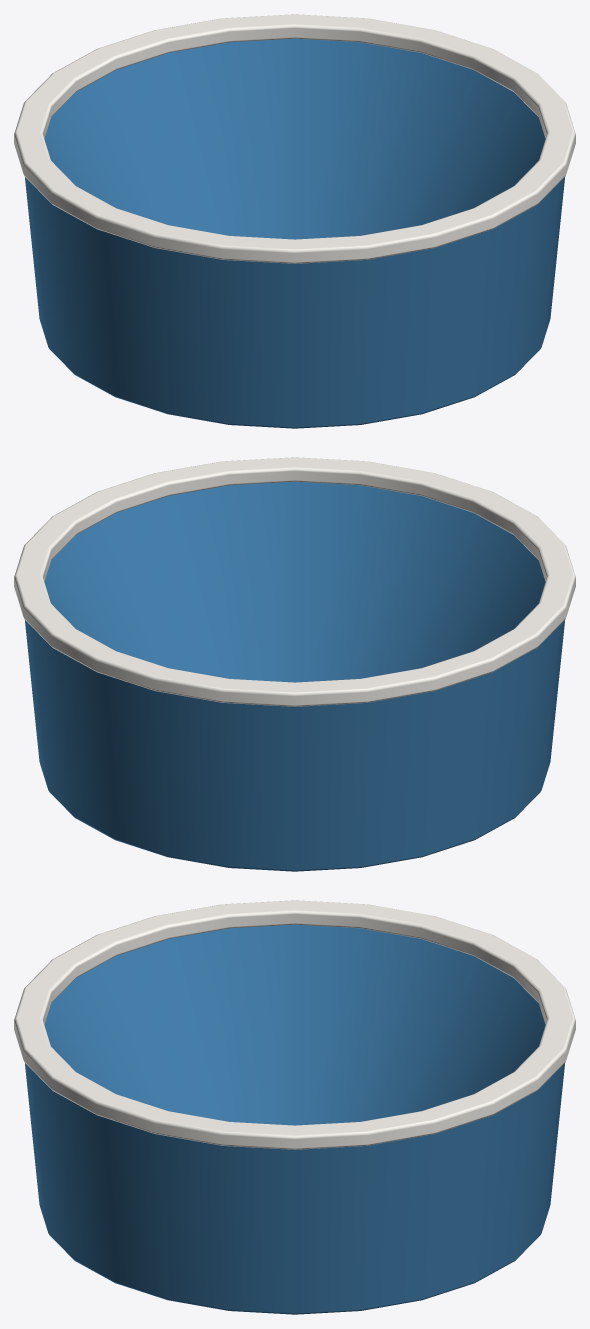
File: Bowl.glb
3 views of the same model, one above another, from view 1: azimuth 30°, elevation 25°; view 2: azimuth 150°, elevation 25°; view 3: azimuth 270°, elevation 25° (orthographic).
Visible parts, largest first — view 1: Bowl; view 2: Bowl; view 3: Bowl.
Boxes of the visible parts, box(x1,y1,x2,y2) form: Bowl: box(14, 14, 575, 428); Bowl: box(14, 457, 575, 871); Bowl: box(14, 900, 575, 1314).
Size of the model in its own units: 0.174 by 0.075 by 0.174.
